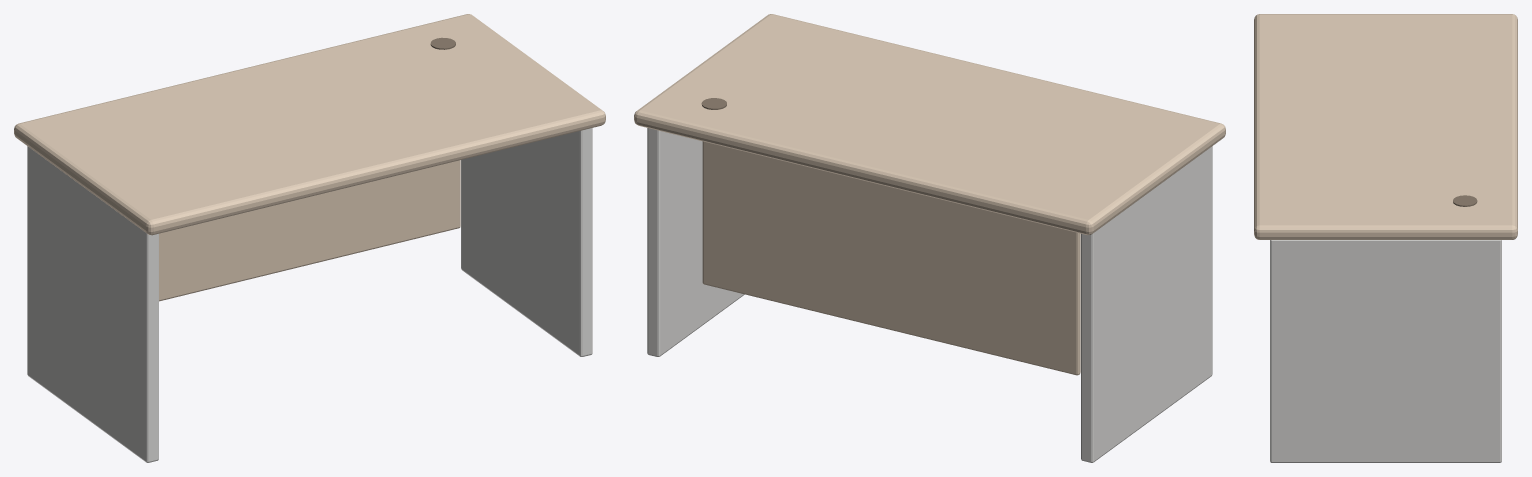
Rendered from isometric_workstation_variations_guide_14.glb.
3 views of the same model, side by side, from view 1: azimuth 30°, elevation 25°; view 2: azimuth 150°, elevation 25°; view 3: azimuth 270°, elevation 25° (orthographic). The views are drawn at different scales.
Parts seen in each view (by area): view 1: Cube; view 2: Cube; view 3: Cube.
Boxes of the visible parts, bbox=[...] form: Cube: bbox=[14, 14, 605, 462]; Cube: bbox=[634, 14, 1225, 462]; Cube: bbox=[1254, 14, 1517, 462].
Bounding box in the file's own units: 1.45 × 0.754 × 0.75.
